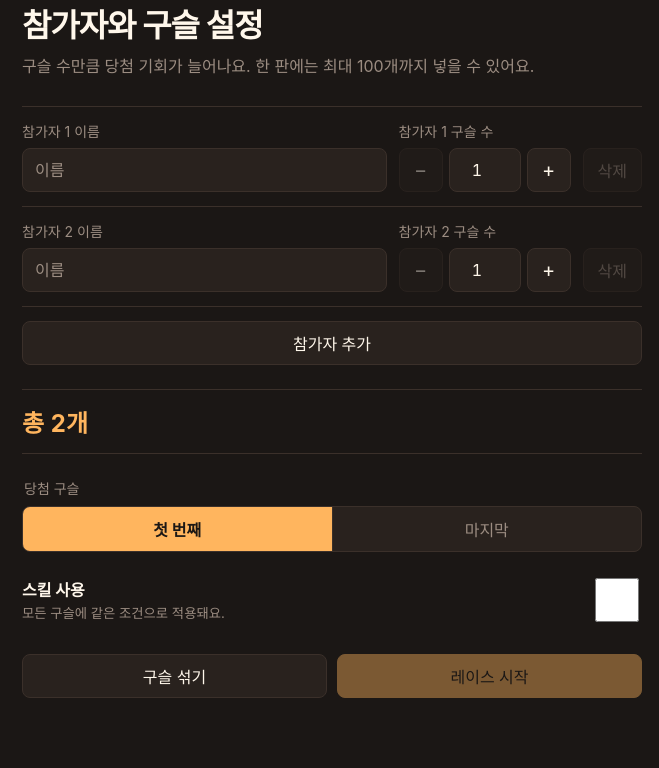
it: MarbleSetup › 잘못된 개수 -1의 허용 범위를 입력 근처에서 안내한다
The width and height of the screenshot is (659, 768).
Type "짱구" into the field labelled "참가자 1 이름" at [204, 170], box [22,148,386,192]
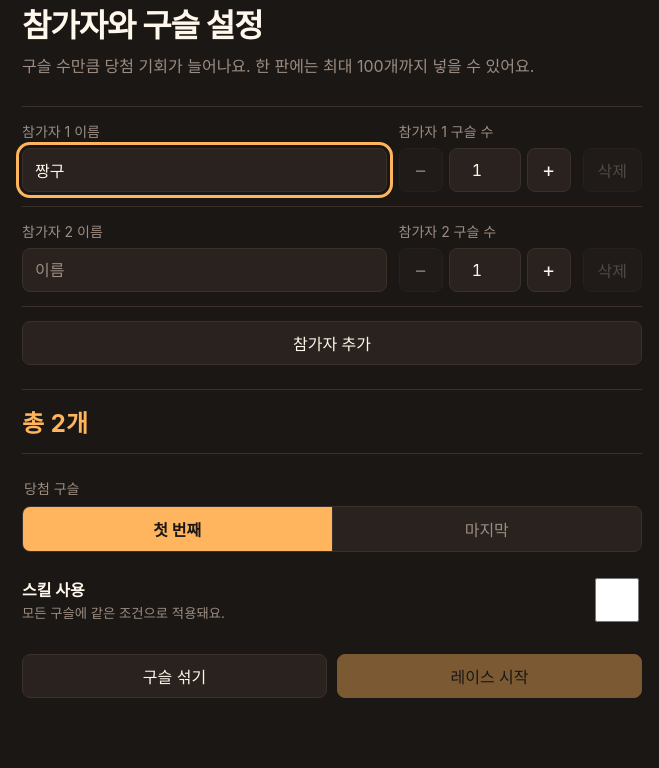
Type "철수" into the field labelled "참가자 2 이름" at [204, 270], box [22,248,386,292]
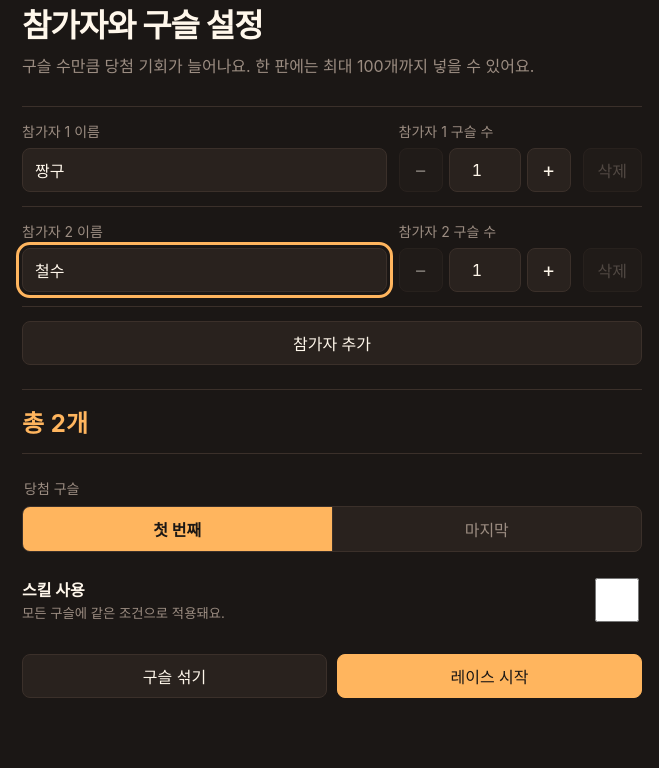
Replace the text in the number field labelled "참가자 1 구슬 수" with "-1" at [484, 170], box [448,148,520,192]
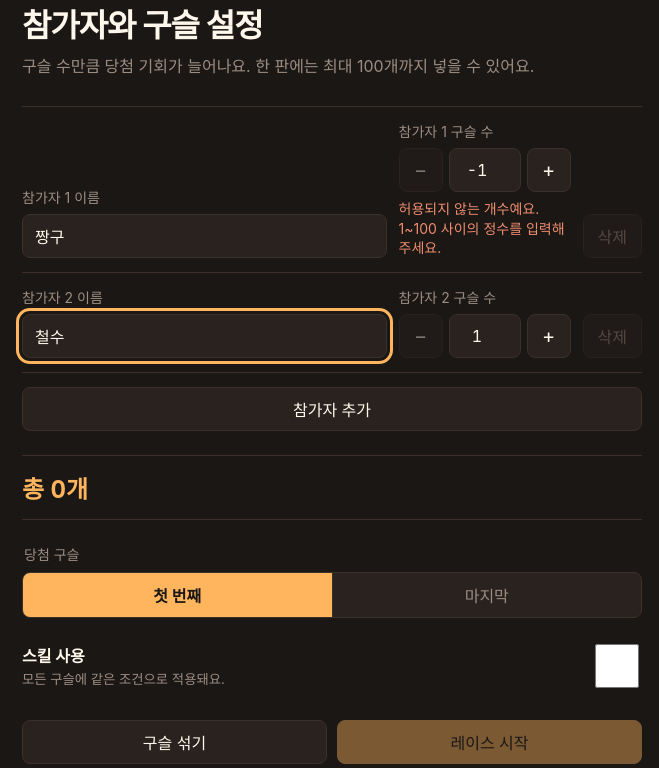
expect the button "레이스 시작" is disabled: met, box [337,720,642,764]
